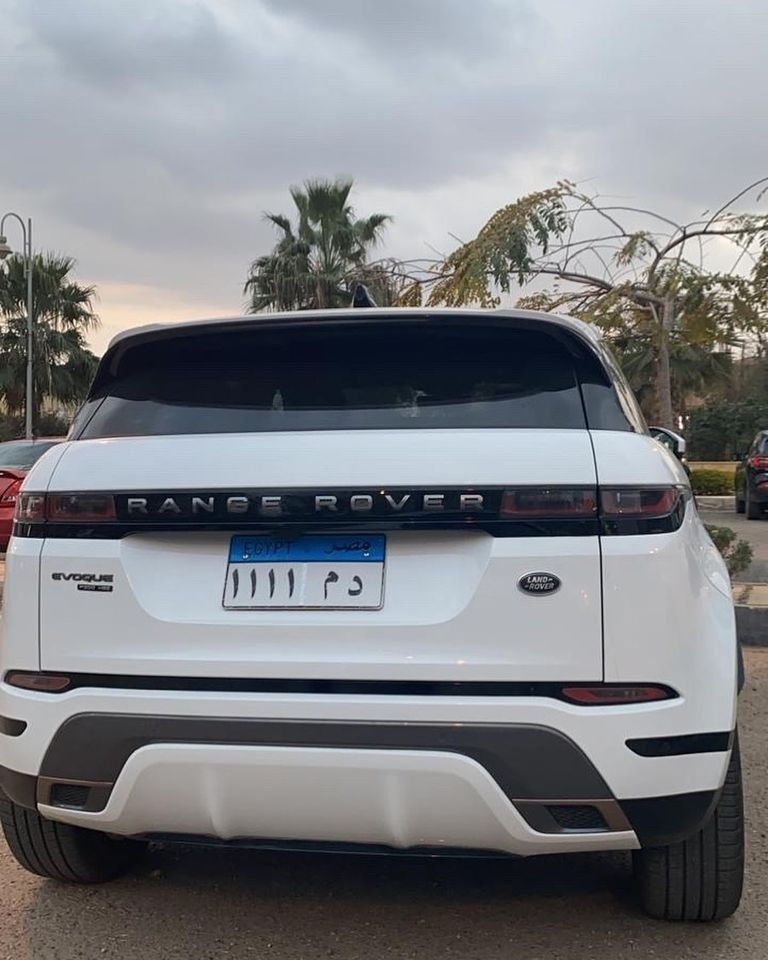carpl: (218, 542, 382, 606)
